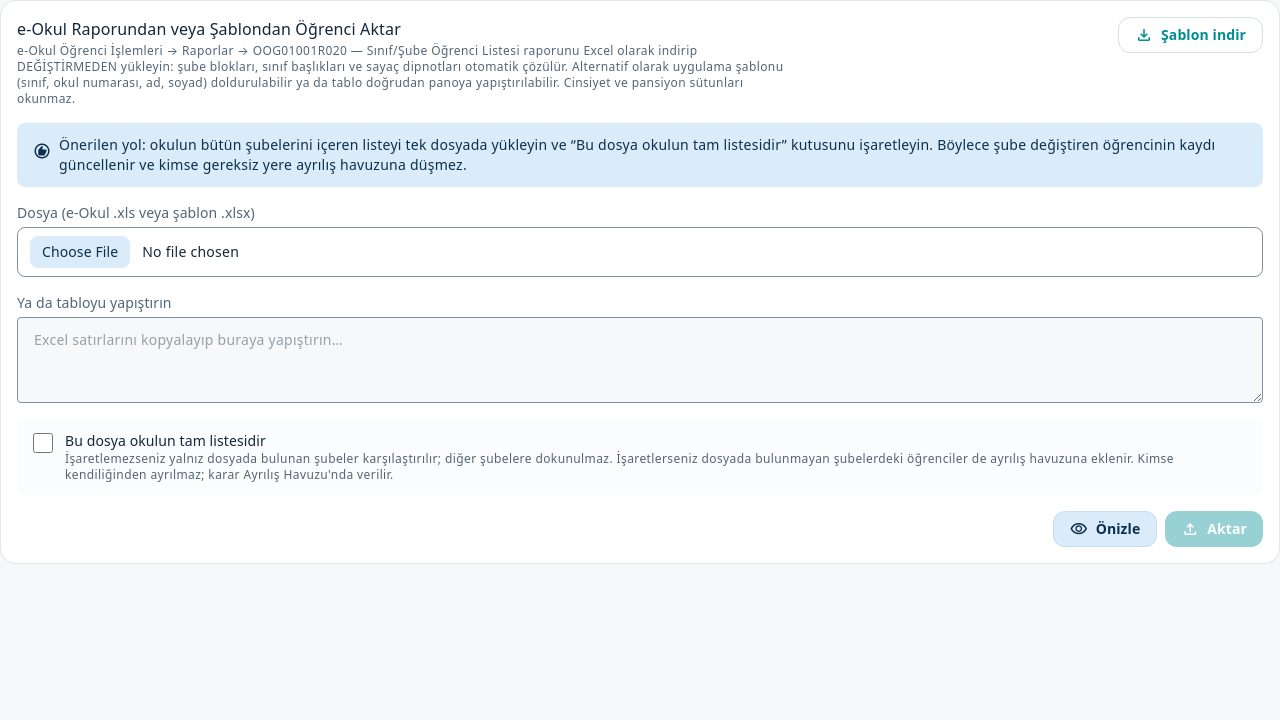
Test: AktarimPaneli — öğrenci mutabakatı ve ayrılış havuzu › şube kapsamlı önizleme başka şubeye geçen öğrencinin geçici olarak havuza düşeceğini söyler
The image size is (1280, 720).
Type "liste" into the text box labelled "Ya da tabloyu yapıştırın". click: (640, 360)
box: [17,317,1263,403]
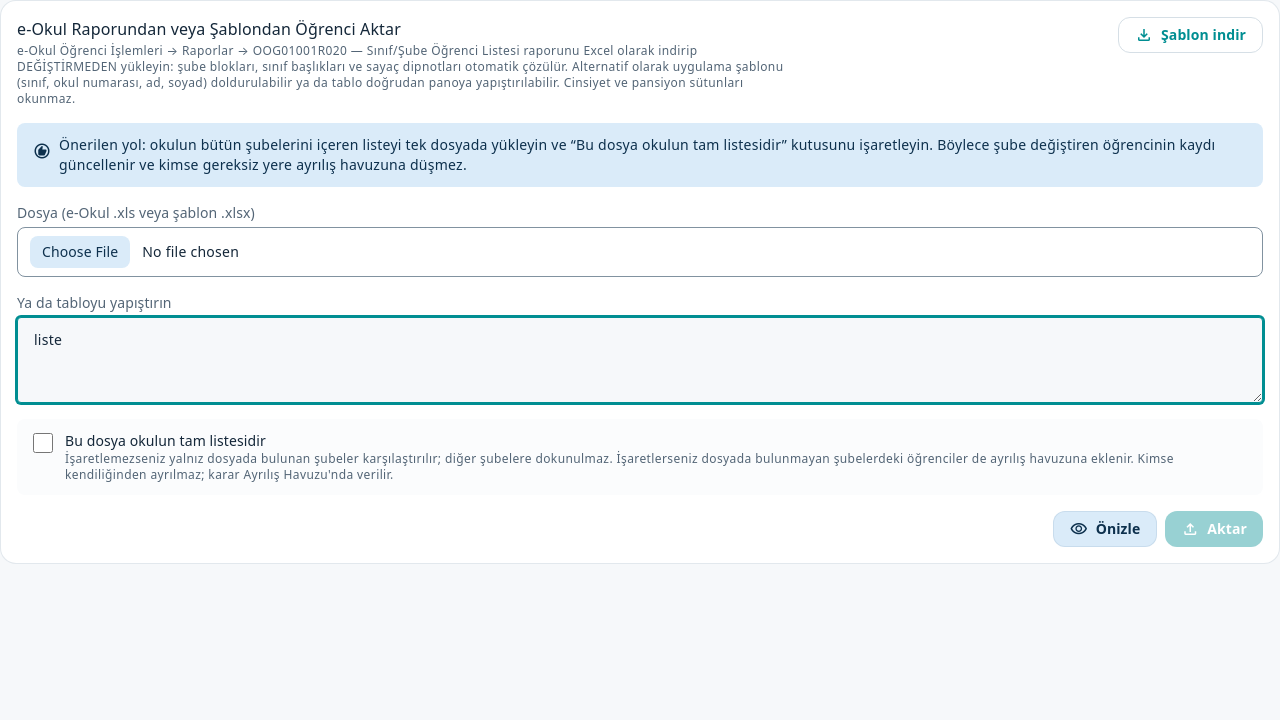
Click the button "Önizle". click: (1105, 529)
box: [1053,511,1157,547]
(page scrolled)
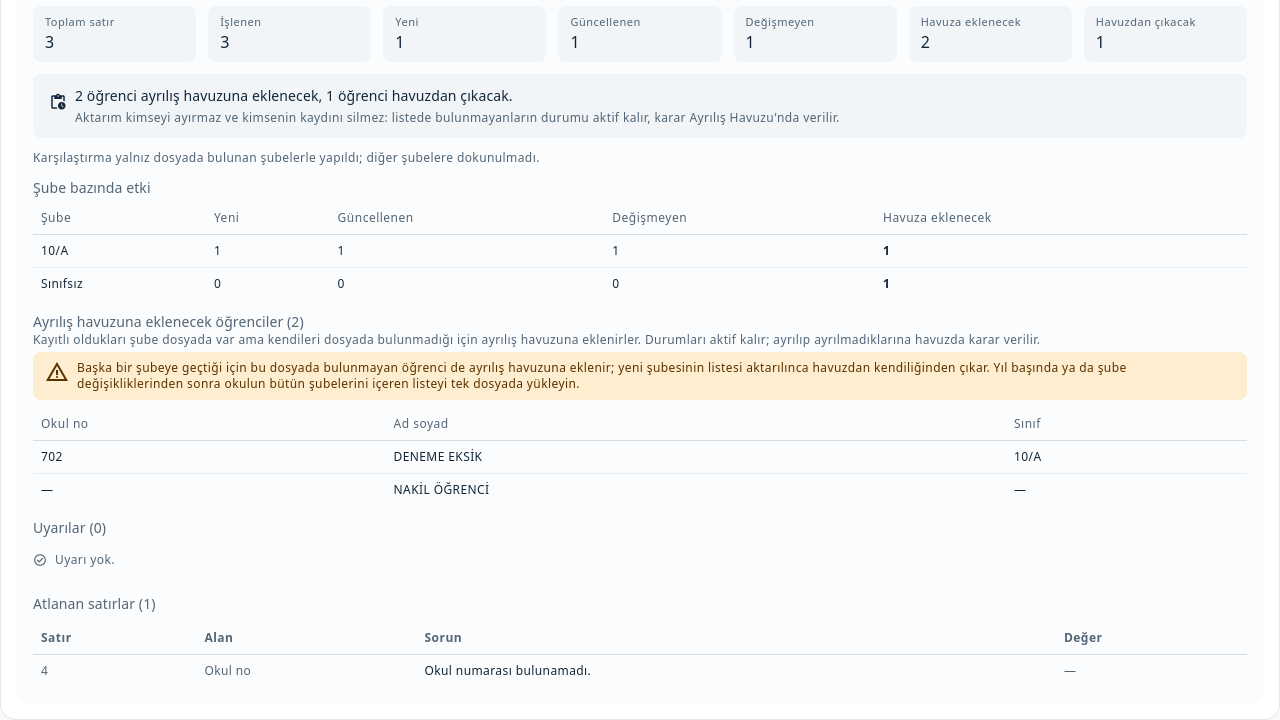
Now the text "Kayıtlı oldukları şube dosyada var" is shown, box [33,331,641,348]
Now the text "yeni şubesinin listesi aktarılınca havuzdan kendiliğinden çıkar" is shown, box [77,359,1127,392]
